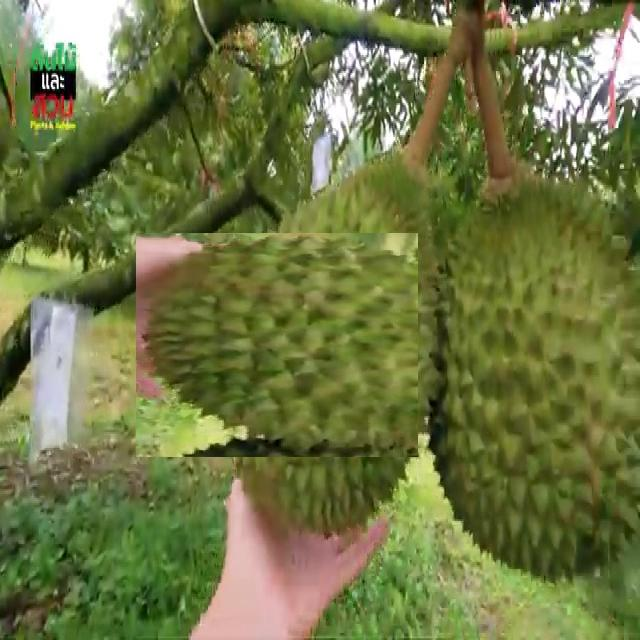durian: (179, 189, 491, 501), (418, 166, 639, 587)
